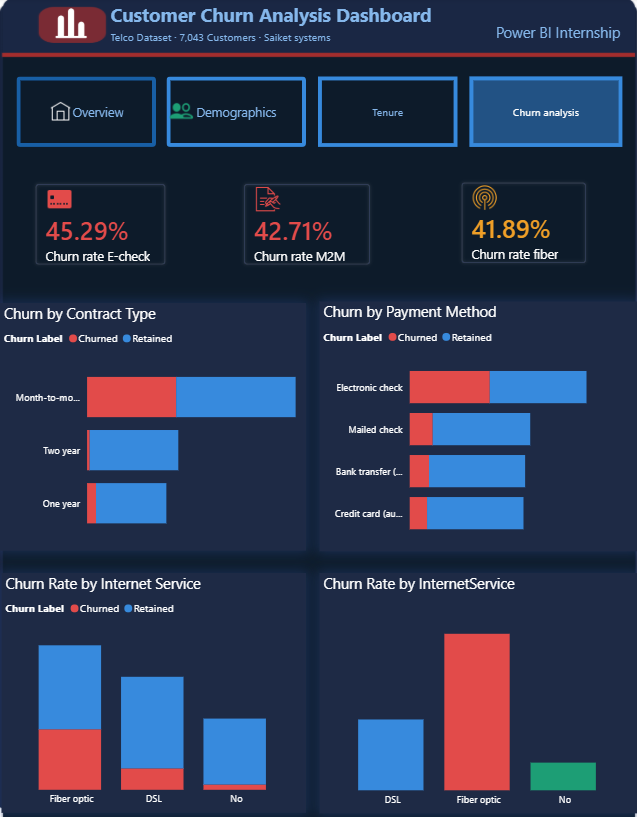

The dashboard page shown, as its layout file describes it:
{"tool":"powerbi","page":{"name":"Page 4","canvas":[816,1056],"ordinal":3},"visuals":[{"type":"cardVisual","fields":{"Data":["Telco_Customer_Churn_Dataset  (.Churn rate M2M"]},"box":[287.7,214.8,209,151.5],"z":0},{"type":"cardVisual","fields":{"Data":["Telco_Customer_Churn_Dataset  (.Churn rate E-check"]},"box":[21.1,214.8,214.8,151.5],"z":1000},{"type":"cardVisual","fields":{"Data":["Telco_Customer_Churn_Dataset  (.Churn rate fiber"]},"box":[565.7,212.9,207.1,151.5],"z":2000},{"type":"barChart","title":"Churn by Contract Type","fields":{"Category":["Telco_Customer_Churn_Dataset  (.Contract"],"Y":["Telco_Customer_Churn_Dataset  (.Total Customers"],"Series":["Telco_Customer_Churn_Dataset  (.Churn Label"]},"box":[0,391.2,391.2,316.4],"z":3000},{"type":"barChart","title":"Churn by Payment Method","fields":{"Series":["Telco_Customer_Churn_Dataset  (.Churn Label"],"Category":["Telco_Customer_Churn_Dataset  (.PaymentMethod"],"Y":["Telco_Customer_Churn_Dataset  (.Total Customers"]},"box":[408.7,389.2,406.7,319.1],"z":4000},{"type":"columnChart","title":"Churn Rate by Internet Service","fields":{"Category":["Telco_Customer_Churn_Dataset  (.InternetService"],"Y":["Telco_Customer_Churn_Dataset  (.Total Customers"],"Series":["Telco_Customer_Churn_Dataset  (.Churn Label"]},"box":[1.9,736.4,389.3,306.8],"z":5000},{"type":"columnChart","fields":{"Category":["Telco_Customer_Churn_Dataset  (.InternetService"],"Y":["Telco_Customer_Churn_Dataset  (.Churn Rate"]},"box":[408.7,735.6,406.7,307.5],"z":6000},{"type":"group","id":"g1","title":"Group 1","box":[21.4,101.2,774.5,93.4],"z":7000},{"type":"textbox","box":[136.2,0,512,53.7],"z":8000,"group":"g2"},{"type":"image","box":[55.6,9.6,70,48],"z":8000},{"type":"group","id":"g2","title":"Group 2","box":[136.2,0,679.8,80.5],"z":9000},{"type":"textbox","box":[136.2,36.4,301.1,34.5],"z":9000,"group":"g2"},{"type":"textbox","box":[628.1,26.8,187.9,53.7],"z":10000,"group":"g2"},{"type":"actionButton","title":"Page 1","box":[21.4,101.2,178.3,90.1],"z":11000,"group":"g1"},{"type":"actionButton","title":"Page 2","box":[213.2,101.2,178.3,90.1],"z":12000,"group":"g1"},{"type":"actionButton","title":"Page 3","box":[406.9,101.2,178.3,90.1],"z":13000,"group":"g1"},{"type":"actionButton","title":"Page 3","box":[600.5,101.2,195.6,90.1],"z":14000,"group":"g1"}]}

Visuals, with their boxes in screenshot pixels (x1, y1, x2, y2), scaled from the page's 816x1056 canvas onto the 637x817 screenshot:
cardVisual - Telco_Customer_Churn_Dataset  (.Churn rate M2M: Rect(225, 166, 388, 283)
cardVisual - Telco_Customer_Churn_Dataset  (.Churn rate E-check: Rect(16, 166, 184, 283)
cardVisual - Telco_Customer_Churn_Dataset  (.Churn rate fiber: Rect(442, 165, 603, 282)
"Churn by Contract Type" barChart: Rect(0, 303, 305, 547)
"Churn by Payment Method" barChart: Rect(319, 301, 636, 548)
"Churn Rate by Internet Service" columnChart: Rect(1, 570, 305, 807)
columnChart - Telco_Customer_Churn_Dataset  (.InternetService x Telco_Customer_Churn_Dataset  (.Churn Rate: Rect(319, 569, 636, 807)
"Group 1" group: Rect(17, 78, 621, 151)
textbox: Rect(106, 0, 506, 42)
image: Rect(43, 7, 98, 45)
"Group 2" group: Rect(106, 0, 636, 62)
textbox: Rect(106, 28, 341, 55)
textbox: Rect(490, 21, 636, 62)
"Page 1" actionButton: Rect(17, 78, 156, 148)
"Page 2" actionButton: Rect(166, 78, 306, 148)
"Page 3" actionButton: Rect(318, 78, 457, 148)
"Page 3" actionButton: Rect(469, 78, 621, 148)
